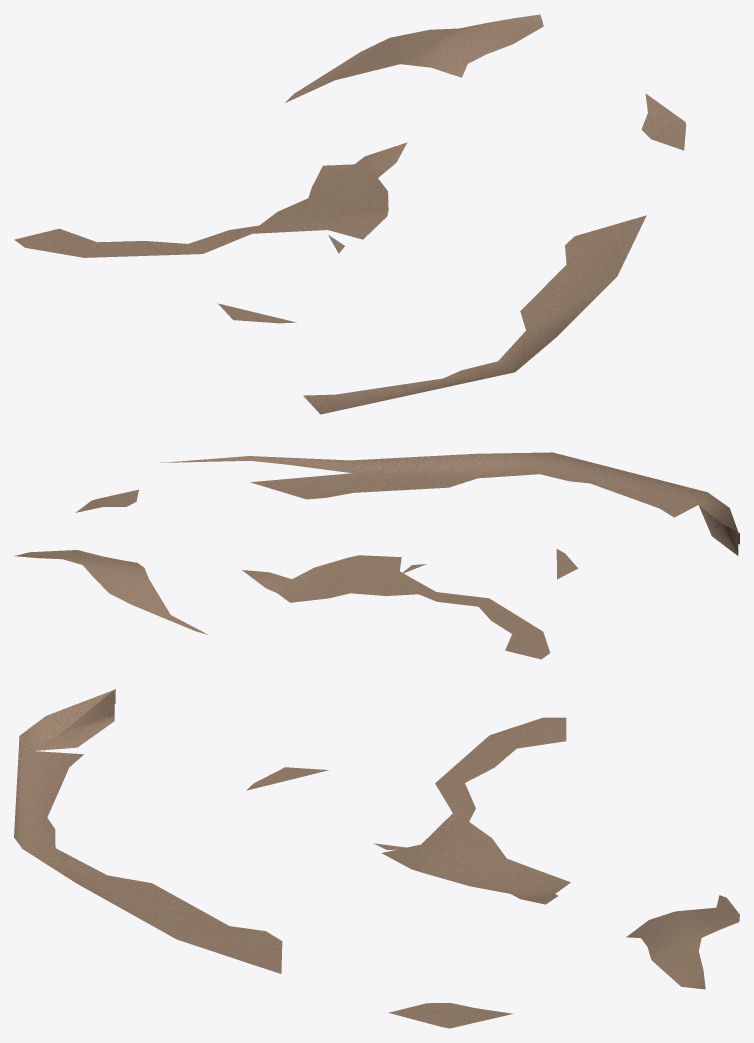
Rendered from kd_stage_136282_2_6_bounded.glb.
3 renders of one model, top to bottom at view 1: azimuth 30°, elevation 25°; view 2: azimuth 150°, elevation 25°; view 3: azimuth 270°, elevation 25°, orthographic. The views are drawn at different scales.
Parts seen in each view (by area): view 1: kd_stage_136282_2_6_bounded; view 2: kd_stage_136282_2_6_bounded; view 3: kd_stage_136282_2_6_bounded.
Part boxes in pixels (x1,y1,x2,y2): kd_stage_136282_2_6_bounded: [14, 14, 686, 414]; kd_stage_136282_2_6_bounded: [14, 452, 739, 659]; kd_stage_136282_2_6_bounded: [14, 689, 739, 1028].
Bounding box in the file's own units: 91.18 × 8 × 83.01.
Materials: 1 (1 with a texture image).
